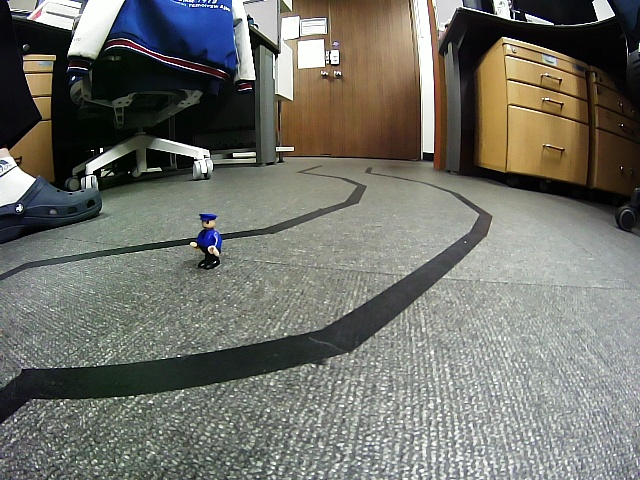person: (189, 212, 223, 270)
